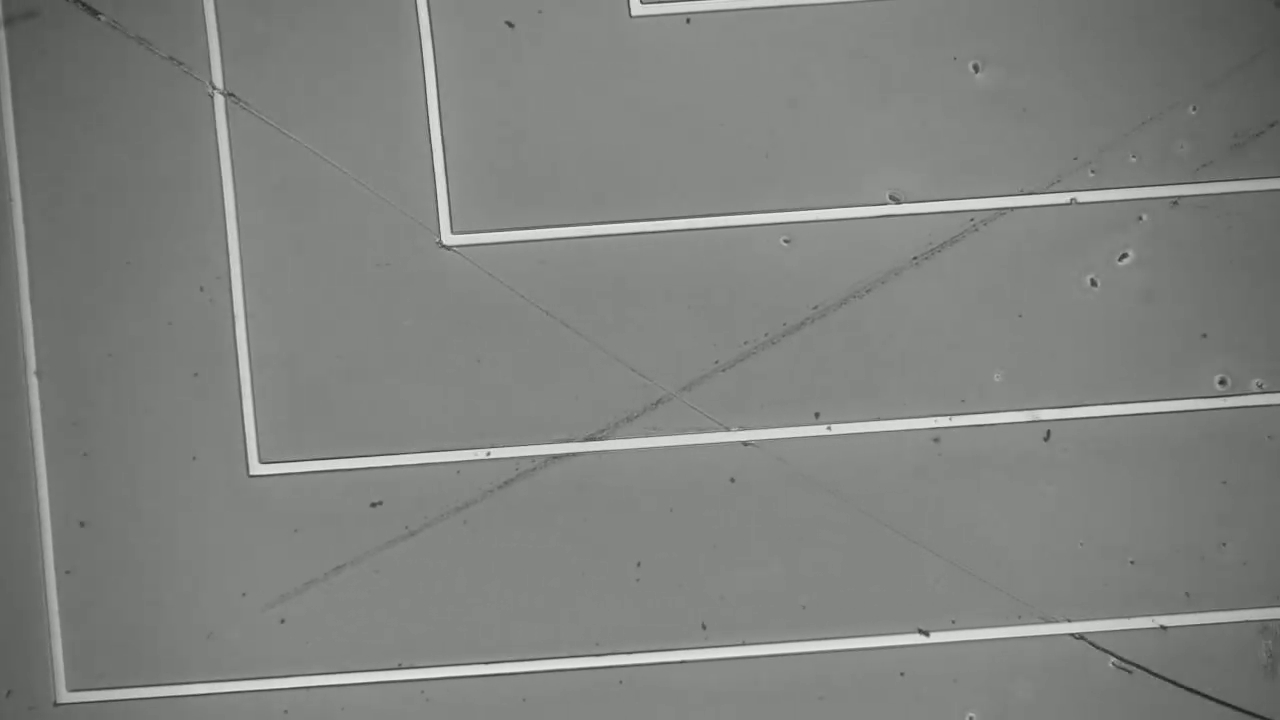edge_bite: (1059, 185, 1089, 211)
scratch: (268, 53, 1263, 599), (461, 252, 1063, 621), (67, 7, 438, 246), (1084, 636, 1272, 718)
stains_enbedded: (911, 620, 945, 652)
